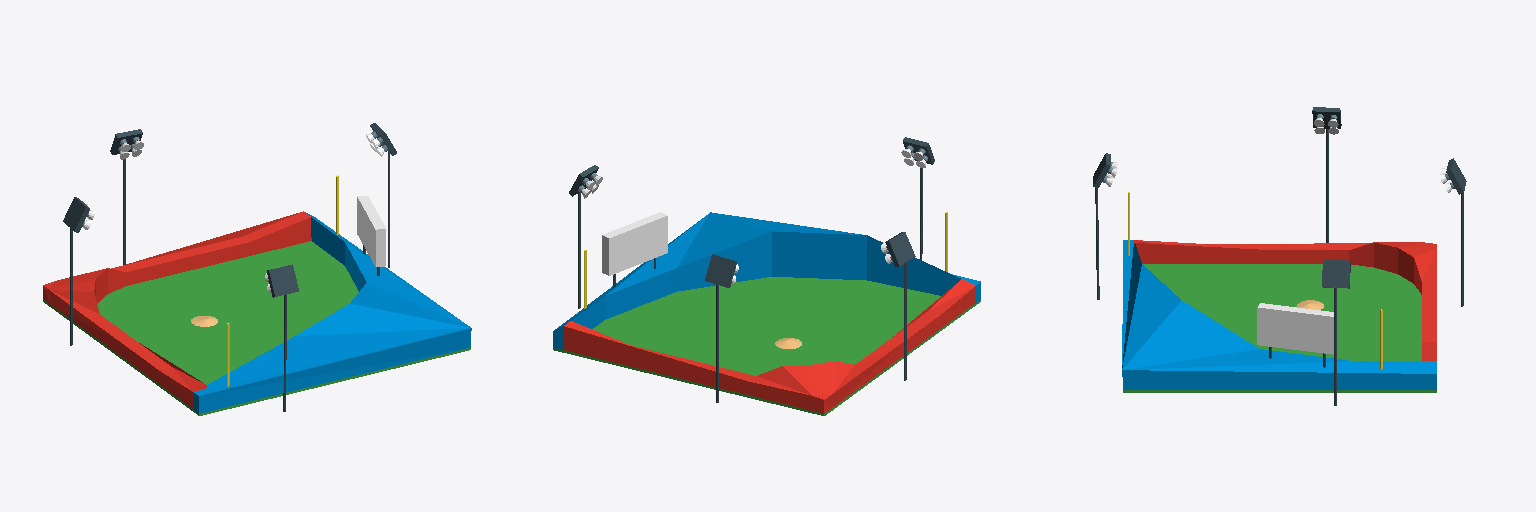
The picture shows the model from 3 angles: view 1: azimuth 30°, elevation 25°; view 2: azimuth 150°, elevation 25°; view 3: azimuth 270°, elevation 25°; orthographic projection.
Visible parts, largest first — view 1: group[number redacted], group[number redacted], group[number redacted], group[number redacted], group[number redacted], group[number redacted]; view 2: group[number redacted], group[number redacted], group[number redacted], group[number redacted], group[number redacted], group[number redacted]; view 3: group[number redacted], group[number redacted], group[number redacted], group[number redacted], group[number redacted].
Part boxes in pixels (x1,y1,x2,y2): group[number redacted]: (43, 241, 470, 415); group[number redacted]: (194, 212, 471, 413); group[number redacted]: (43, 211, 311, 408); group[number redacted]: (357, 195, 385, 266); group[number redacted]: (267, 264, 298, 297); group[number redacted]: (63, 197, 89, 232); group[number redacted]: (553, 277, 980, 415); group[number redacted]: (553, 212, 980, 349); group[number redacted]: (563, 279, 975, 413); group[number redacted]: (602, 212, 667, 275); group[number redacted]: (705, 254, 736, 287); group[number redacted]: (885, 232, 915, 266); group[number redacted]: (1122, 240, 1436, 389); group[number redacted]: (1123, 264, 1436, 392); group[number redacted]: (1134, 240, 1436, 360); group[number redacted]: (1257, 303, 1333, 354); group[number redacted]: (1322, 260, 1350, 288).
Bounding box in the file's own units: 2.74 × 1.18 × 2.69.